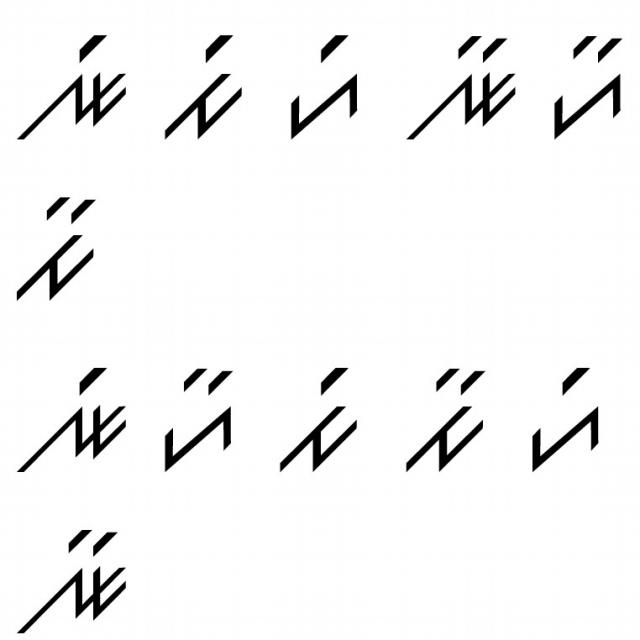han: (539, 29, 627, 149), (154, 364, 235, 481)
hang: (275, 28, 368, 151), (521, 359, 604, 477)
mban: (391, 354, 496, 480), (10, 190, 100, 311)
mbang: (145, 31, 248, 149), (273, 358, 369, 481)
ndan: (16, 520, 130, 639), (404, 27, 520, 143)
ndang: (11, 28, 129, 146), (16, 361, 130, 476)
